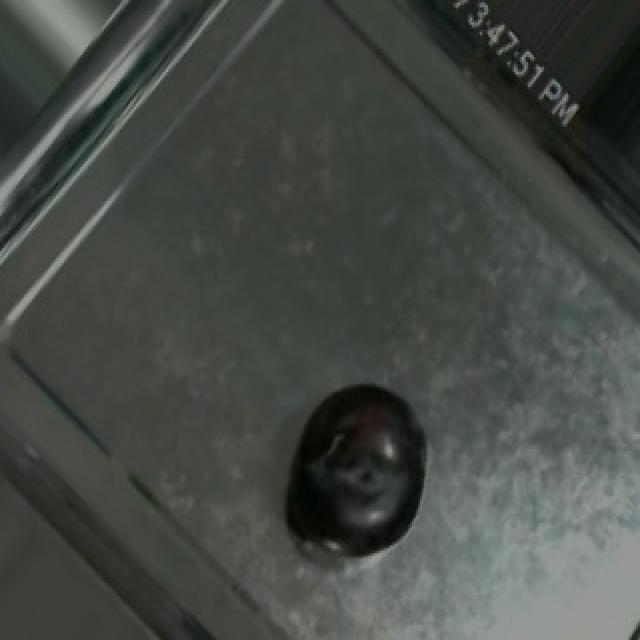Fruit: (274, 362, 452, 583)
